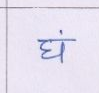anusvara: (59, 30, 62, 34)
